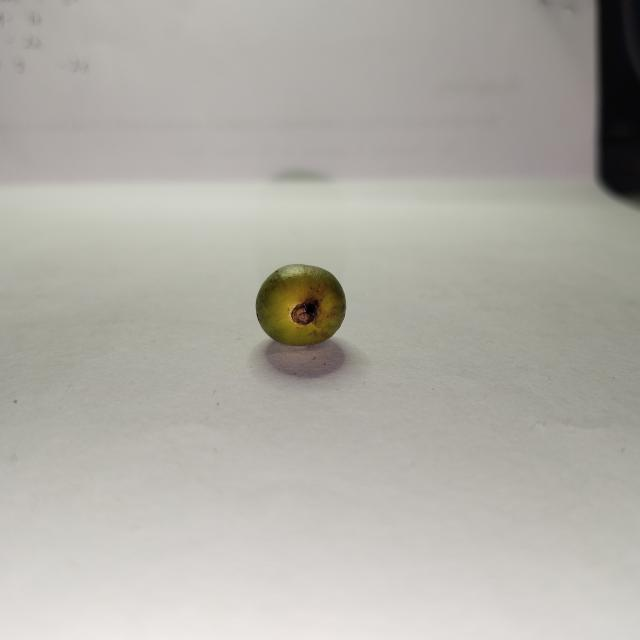Infectado: (256, 264, 347, 346)
